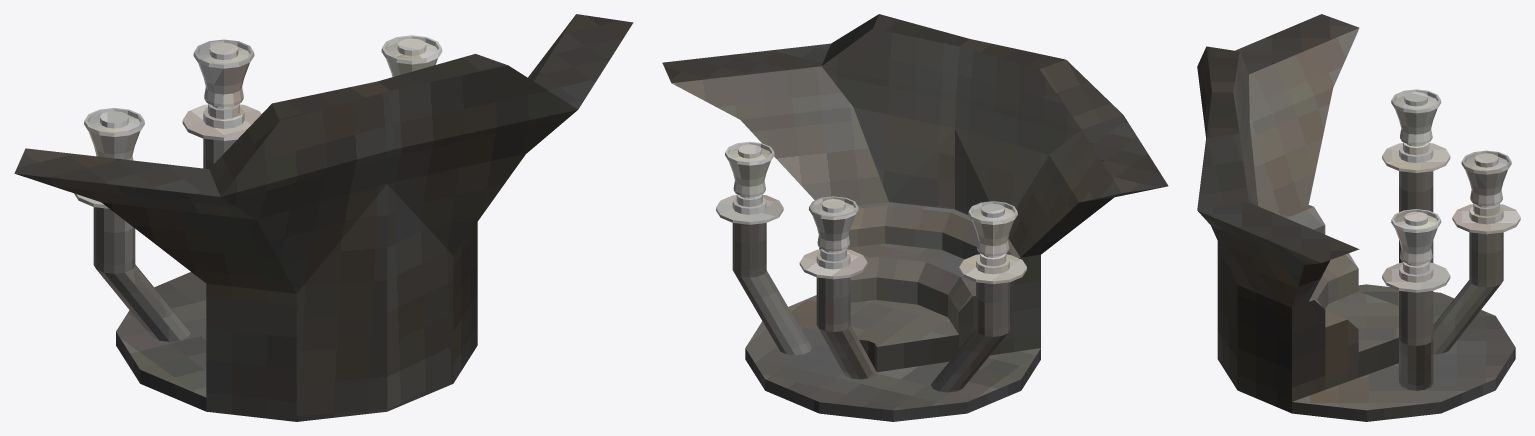
File: LustreTeatro.fbx
3 renders of one model, left to right at view 1: azimuth 30°, elevation 25°; view 2: azimuth 150°, elevation 25°; view 3: azimuth 270°, elevation 25°, orthographic. The views are drawn at different scales.
Visible parts, largest first — view 1: Cylinder.007; view 2: Cylinder.007; view 3: Cylinder.007.
Part boxes in pixels (x1,y1,x2,y2): Cylinder.007: (14, 14, 633, 421); Cylinder.007: (662, 14, 1168, 421); Cylinder.007: (1197, 14, 1520, 421).
Bounding box in the file's own units: 125 × 62.54 × 68.82.
1 material, 1 textured.
